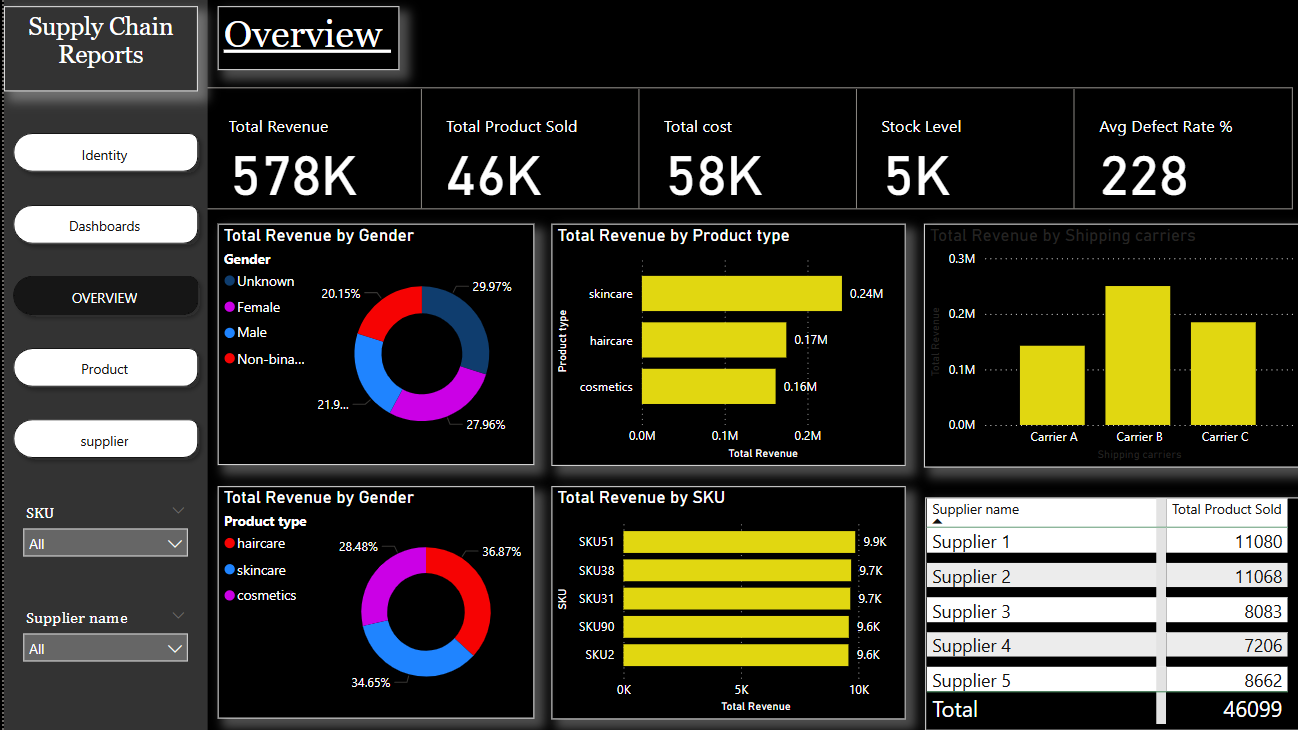

The page's visual inventory and layout, read from the dashboard file:
{"tool":"powerbi","page":{"name":"OVERVIEW","canvas":[1280,720],"ordinal":2},"visuals":[{"type":"cardVisual","fields":{"Data":["_Measure.Total Revenue","_Measure.Total Product Sold","_Measure.Total  cost","_Measure.Stock Level","_Measure.Avg Defect Rate %"]},"box":[189.5,85.6,1081,129.6],"z":0},{"type":"shape","box":[0,0,199.3,720.2],"z":1000},{"type":"donutChart","title":"Total Revenue by Gender","fields":{"Y":["_Measure.Total Revenue"],"Category":["supply_chain_data.Customer demographics"]},"box":[209.1,223.8,309.4,236],"z":2000},{"type":"donutChart","title":"Total Revenue by Gender","fields":{"Y":["_Measure.Avg Defect Rate %"],"Category":["supply_chain_data.Product type"]},"box":[209.1,480.6,309.4,227.4],"z":3000},{"type":"clusteredBarChart","fields":{"Y":["_Measure.Total Revenue"],"Category":["supply_chain_data.Product type"]},"box":[535.3,223.6,346.3,236.6],"z":4000},{"type":"clusteredBarChart","fields":{"Y":["_Measure.Total Revenue"],"Category":["supply_chain_data.SKU"]},"box":[535.3,480.4,346.3,228],"z":5000},{"type":"clusteredColumnChart","fields":{"Y":["_Measure.Total Revenue"],"Category":["supply_chain_data.Shipping carriers"]},"box":[900.3,223.6,367.9,238.1],"z":6000},{"type":"tableEx","fields":{"Values":["supply_chain_data.Supplier name","_Measure.Total Product Sold"]},"box":[901.7,492,367.9,228],"z":7000},{"type":"textbox","box":[209.2,11.5,177.5,62],"z":8000},{"type":"pageNavigator","box":[0,126,199.3,336.3],"z":9000},{"type":"slicer","fields":{"Values":["supply_chain_data.SKU"]},"box":[8.6,491.6,181,78.3],"z":10000},{"type":"slicer","fields":{"Values":["supply_chain_data.Supplier name"]},"box":[8.6,594.3,181,78.3],"z":11000},{"type":"textbox","box":[0,11,189.5,83.2],"z":12000}]}

Visuals, with their boxes in screenshot pixels (x1, y1, x2, y2), scaled from the page's 1280x720 canvas onto the 1298x730 screenshot:
cardVisual - _Measure.Total Revenue x _Measure.Total Product Sold: 192:87:1288:218
shape: 0:0:202:729
"Total Revenue by Gender" donutChart: 212:227:526:466
"Total Revenue by Gender" donutChart: 212:487:526:718
clusteredBarChart - _Measure.Total Revenue x supply_chain_data.Product type: 543:227:894:467
clusteredBarChart - _Measure.Total Revenue x supply_chain_data.SKU: 543:487:894:718
clusteredColumnChart - _Measure.Total Revenue x supply_chain_data.Shipping carriers: 913:227:1286:468
tableEx - supply_chain_data.Supplier name x _Measure.Total Product Sold: 914:499:1287:729
textbox: 212:12:392:75
pageNavigator: 0:128:202:469
slicer - supply_chain_data.SKU: 9:498:192:578
slicer - supply_chain_data.Supplier name: 9:603:192:682
textbox: 0:11:192:96
